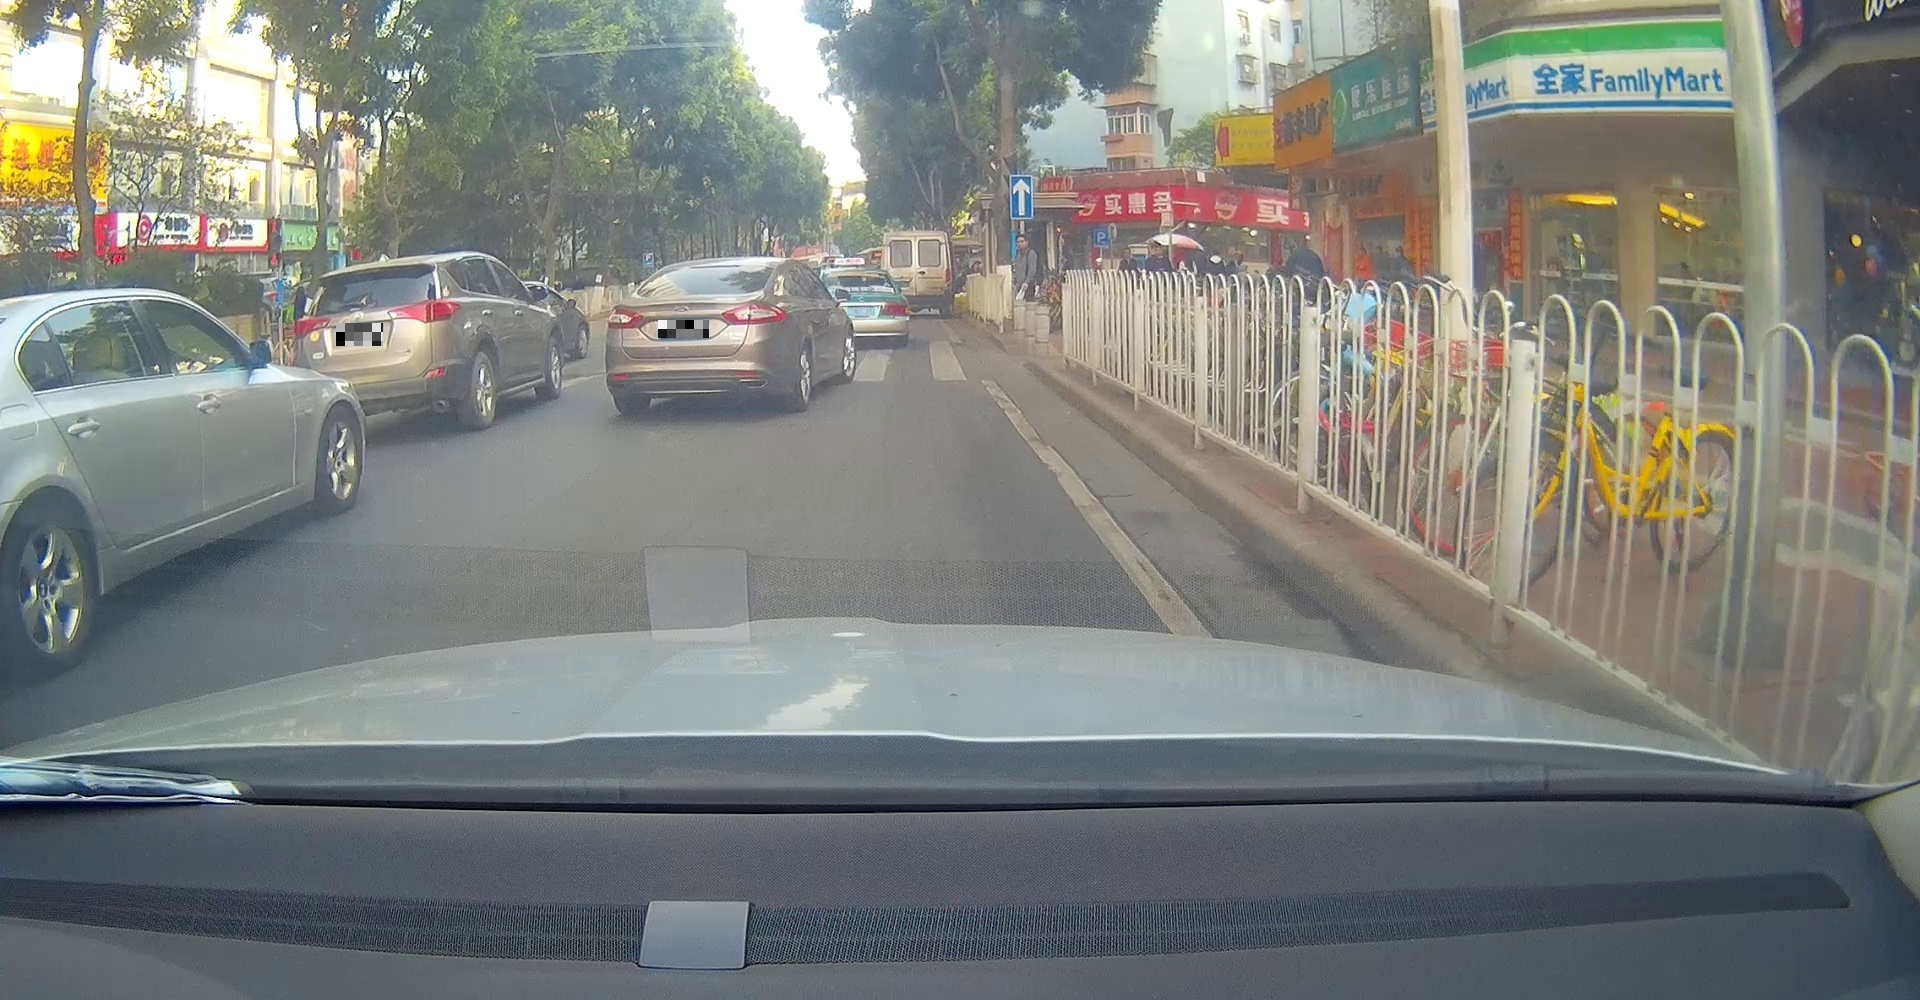L_light: (293, 317, 331, 340), (607, 307, 644, 330)
R_light: (386, 299, 461, 324), (721, 302, 787, 325)
T_light: (354, 269, 380, 275), (700, 263, 730, 266)
day-no: (293, 254, 471, 431), (604, 256, 792, 416)
plate_1: (337, 324, 383, 346)
plate_2: (658, 320, 709, 338)
